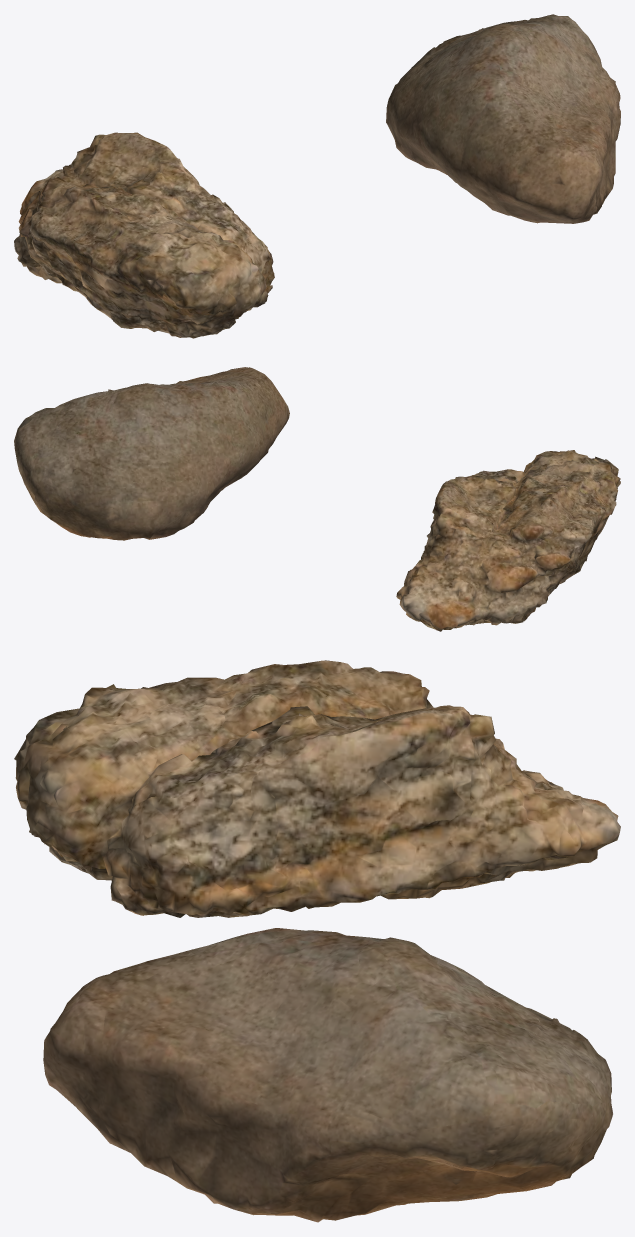
File: desert_boulders.glb
3 views of the same model, one above another, from view 1: azimuth 30°, elevation 25°; view 2: azimuth 150°, elevation 25°; view 3: azimuth 270°, elevation 25° (orthographic). The views are drawn at different scales.
Parts seen in each view (by area): view 1: namaqualand_rocks_01_a; view 2: namaqualand_rocks_01_a; view 3: namaqualand_rocks_01_a.
Boxes of the visible parts, x1=… form: namaqualand_rocks_01_a: x1=14, y1=14, x2=620, y2=338; namaqualand_rocks_01_a: x1=14, y1=367, x2=620, y2=631; namaqualand_rocks_01_a: x1=14, y1=660, x2=620, y2=1222.
Size of the model in its own units: 1.06 by 0.2512 by 0.5867.
1 material, 1 textured.
